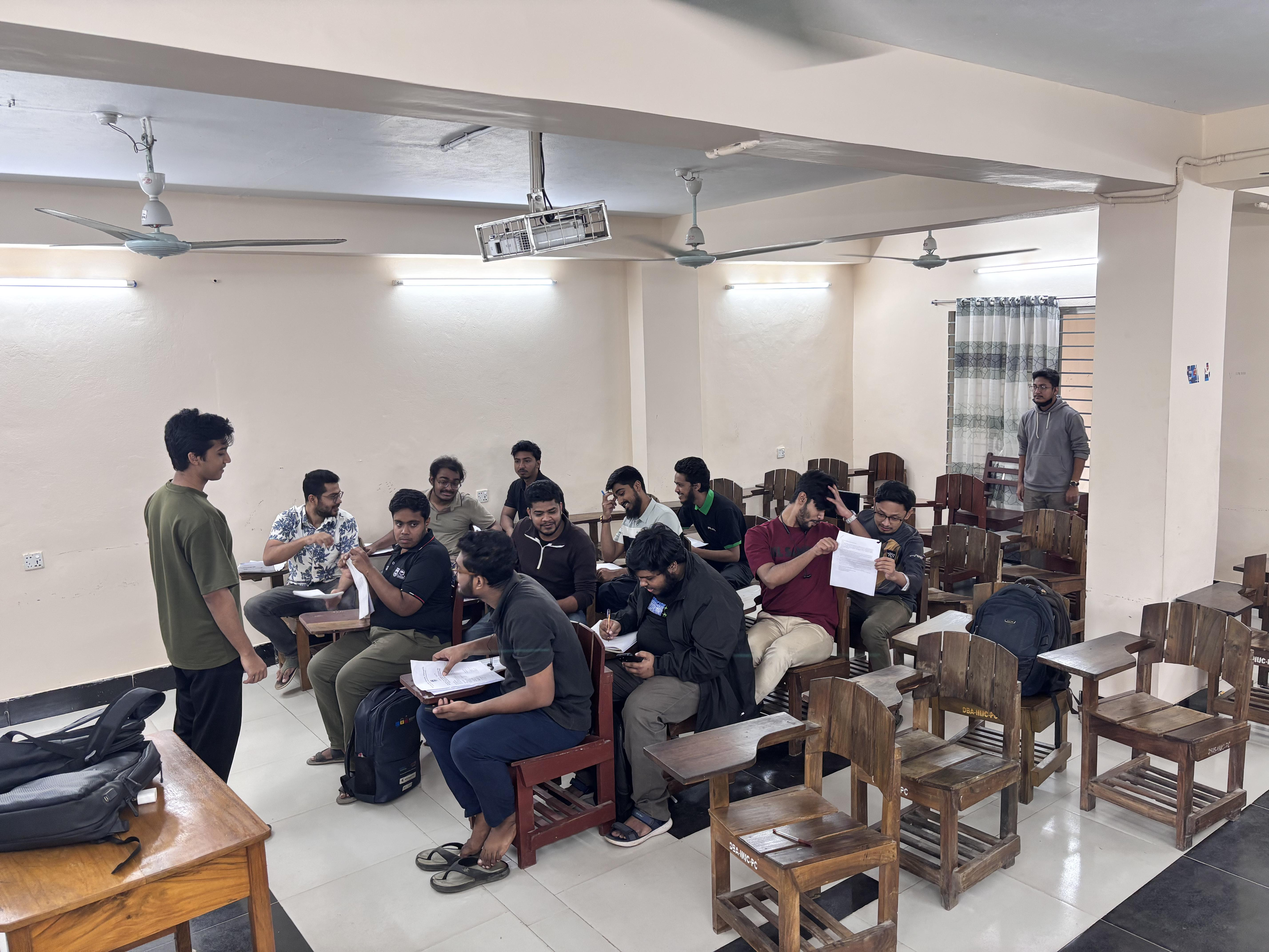copying: (508, 479, 603, 607)
hidden_communication: (751, 466, 930, 626)
invigilator: (142, 403, 258, 773), (1016, 363, 1091, 529)
no_cheating: (602, 524, 732, 686), (598, 463, 683, 583), (499, 436, 572, 543)
side_talking: (347, 486, 457, 650), (252, 470, 359, 612), (412, 452, 491, 549)
suspicious_moving: (423, 532, 561, 711), (665, 454, 751, 571)
